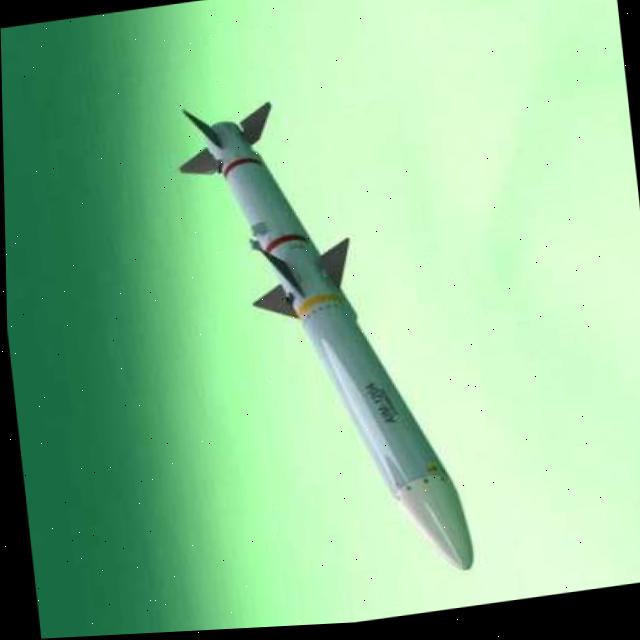missile: (167, 84, 474, 613)
